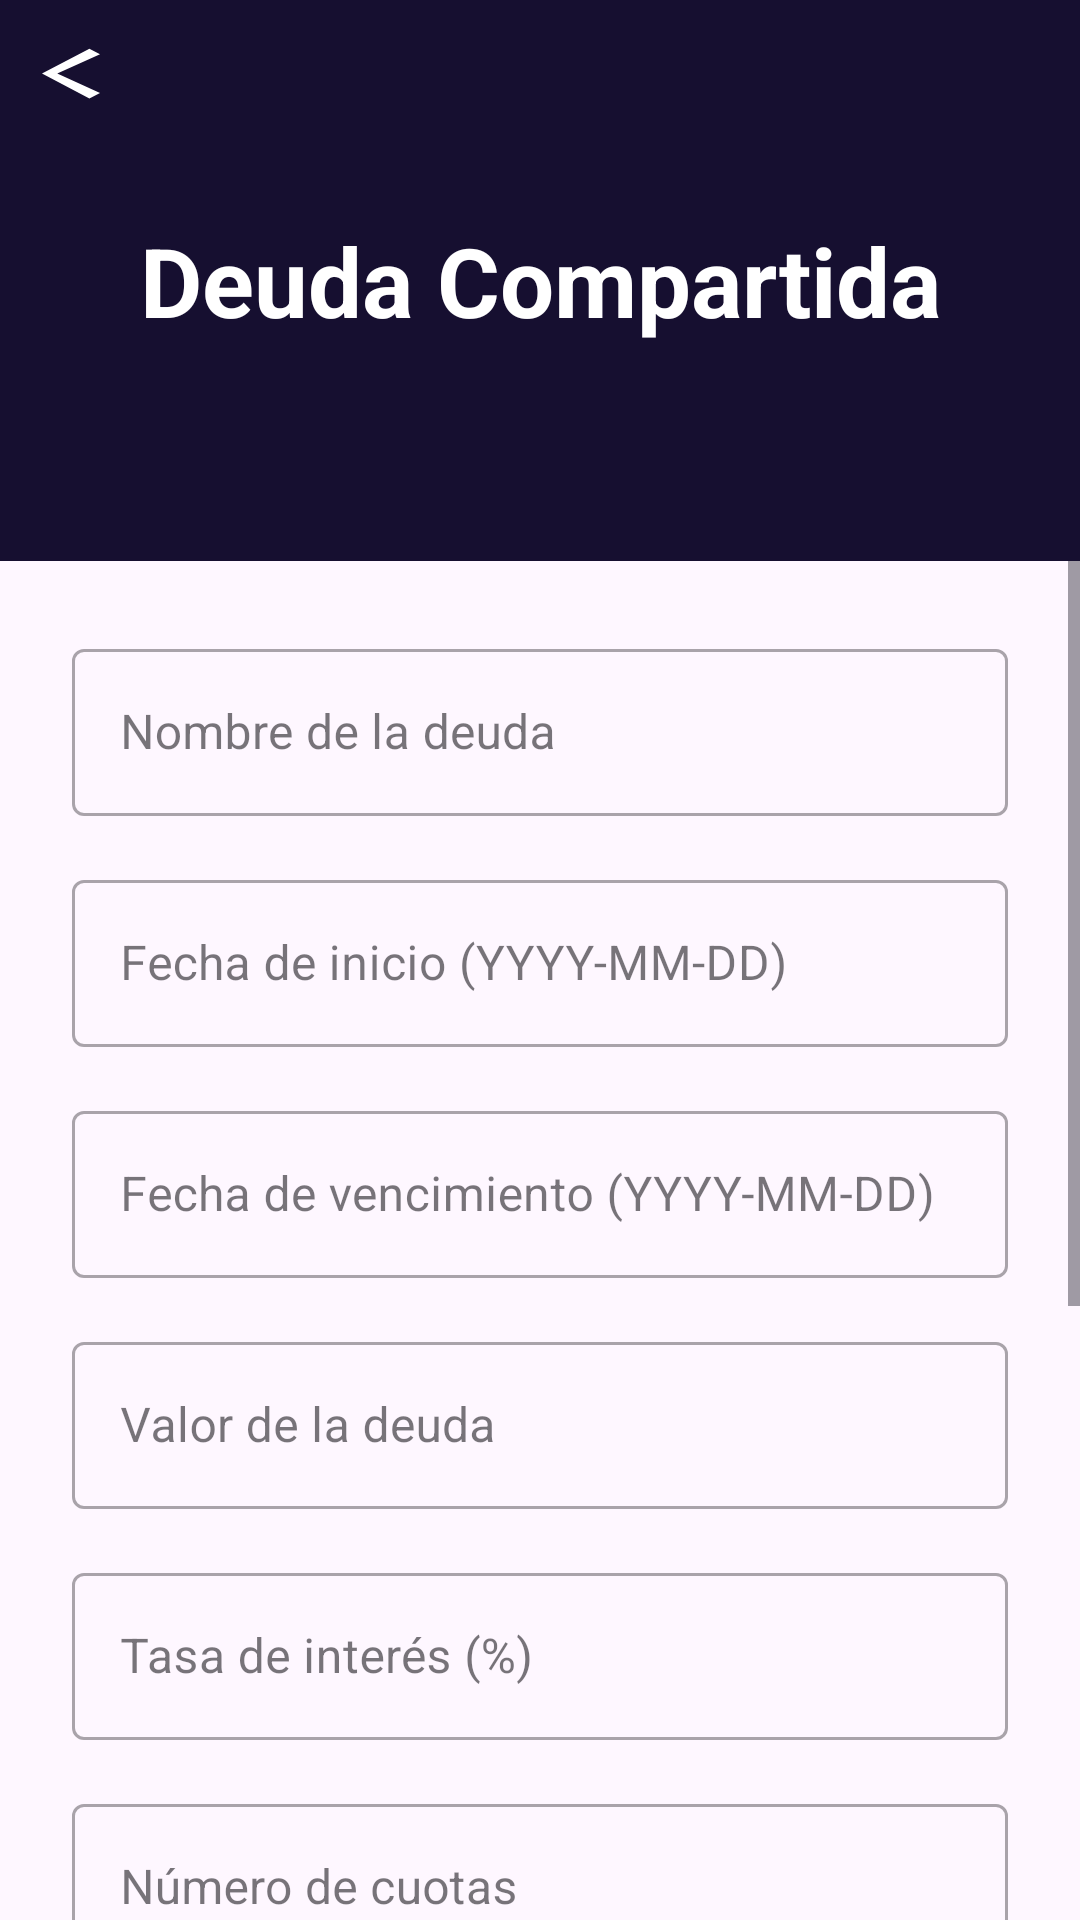

Where icons sit on this 1080px x 1920px app screen, as bbox=[x1, y1, x2, y2]:
Back: bbox=[42, 48, 100, 99]
